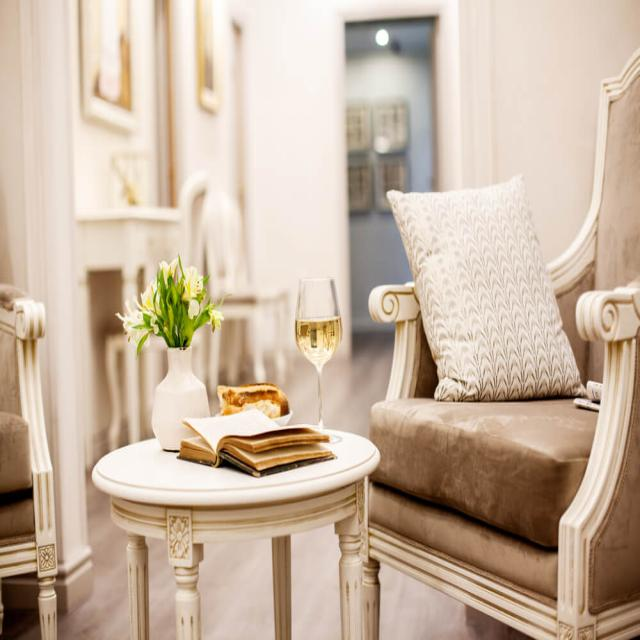vintage chair: (352, 15, 640, 640)
vintage desk: (78, 403, 389, 640)
